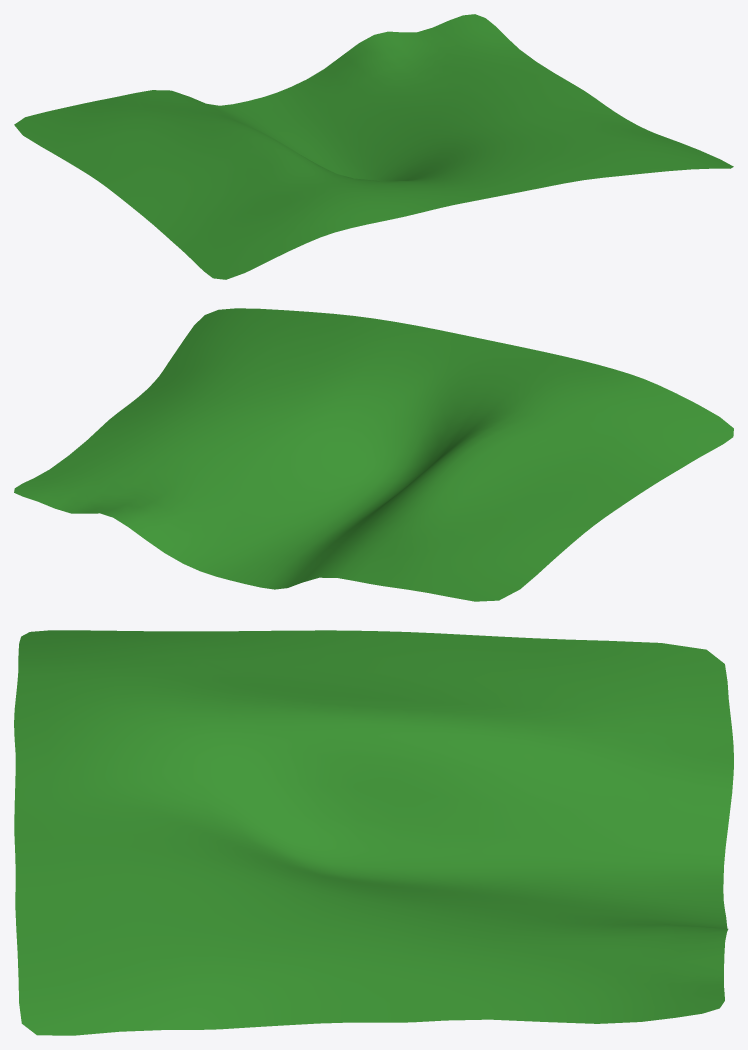
File: [poo]_End_Terrain.fbx
3 renders of one model, top to bottom at view 1: azimuth 30°, elevation 25°; view 2: azimuth 150°, elevation 25°; view 3: azimuth 270°, elevation 25°, orthographic. The views are drawn at different scales.
Parts seen in each view (by area): view 1: Terrain; view 2: Terrain; view 3: Terrain.
Boxes of the visible parts, x1,y1,x2,y2 form: Terrain: [14, 14, 733, 279]; Terrain: [14, 308, 733, 601]; Terrain: [14, 630, 733, 1035].
Size of the model in its own units: 20375 by 2797 by 15980.
